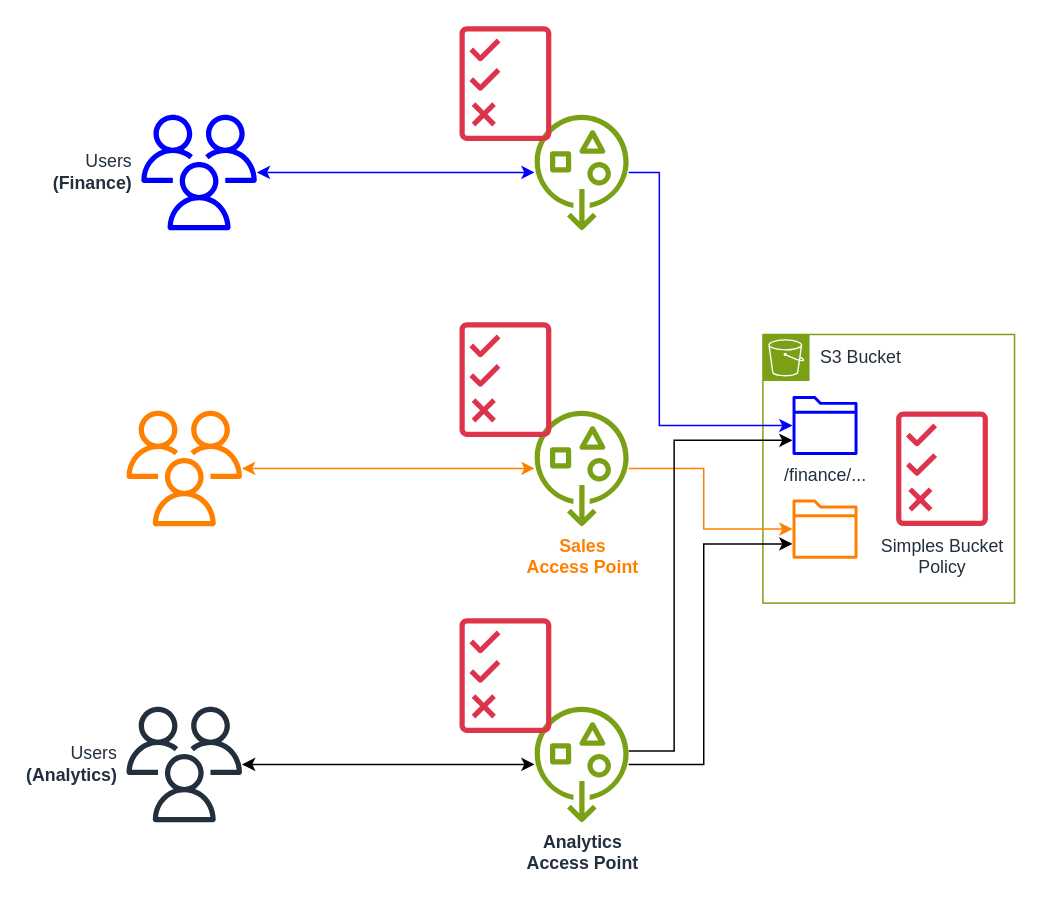
Some shapes in this 1040 by 900 pixel diagram are drawn without their labels. The shapes that lost their labels are listed below. From the top down, each one's box as (x1, y1, x2, y2) in pixels, then its label:
(533, 114, 629, 229): Fiance Access Point
(126, 410, 241, 525): Users (Sales)
(792, 499, 857, 558): /sales/...
